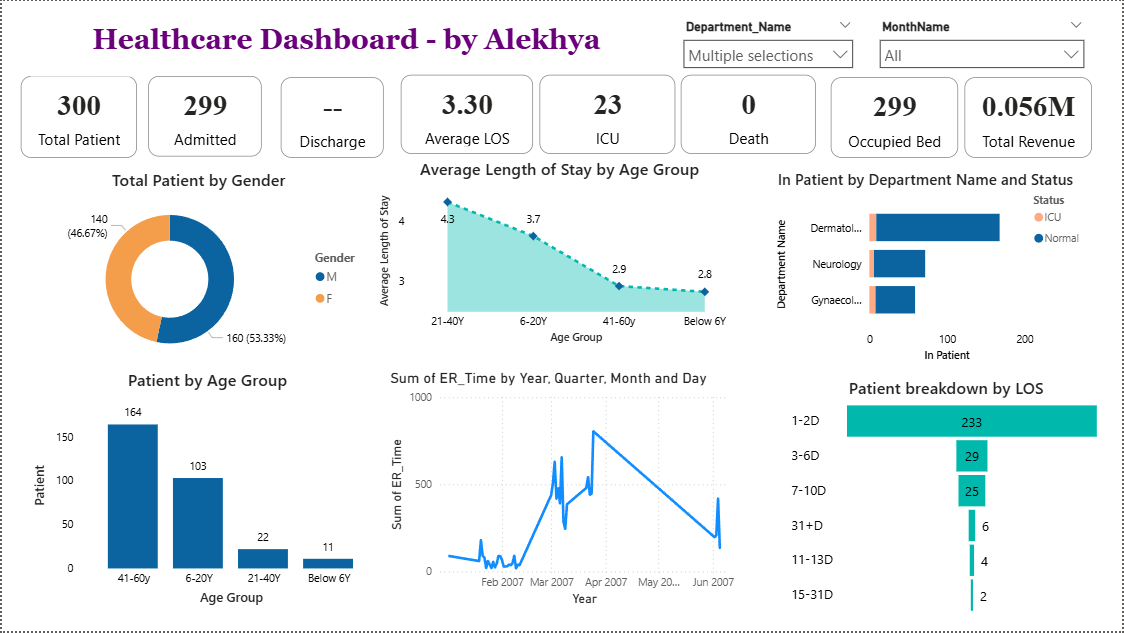

This screenshot's page, from the dashboard's own definition file:
{"tool":"powerbi","page":{"name":"Patients Summary ","canvas":[1280,720],"ordinal":1},"visuals":[{"type":"cardVisual","fields":{"Data":["Measure.Total Patient"]},"box":[21.2,86.2,132.5,93.8],"z":0},{"type":"textbox","box":[32.5,20,721.2,66.2],"z":1000},{"type":"slicer","fields":{"Values":["Department.Department_Name"]},"box":[769.2,15.1,213.9,71.3],"z":2000},{"type":"slicer","fields":{"Values":["Calendar_date.MonthName"]},"box":[992.6,15.1,253.6,71.3],"z":3000},{"type":"cardVisual","fields":{"Data":["Measure.In Patient"]},"box":[167.5,85.6,129.6,91.7],"z":4000},{"type":"cardVisual","fields":{"Data":["Measure.Total Discharge"]},"box":[319,86.8,117.4,91.7],"z":5000},{"type":"cardVisual","fields":{"Data":["Measure.Avarage LOS"]},"box":[456,84.3,151.6,90.5],"z":6000},{"type":"cardVisual","fields":{"Data":["Measure.ICU"]},"box":[613.7,84.3,155.2,90.5],"z":7000},{"type":"cardVisual","fields":{"Data":["Measure.Death"]},"box":[775,84.3,154,90.5],"z":8000},{"type":"cardVisual","fields":{"Data":["Measure.Occupied Bed"]},"box":[947.4,86.8,145.5,91.7],"z":9000},{"type":"cardVisual","fields":{"Data":["Measure.Total Revenue"]},"box":[1100.2,86.8,145.5,91.7],"z":10000},{"type":"donutChart","fields":{"Category":["Detail data dataset.Gender"],"Y":["Measure.Total Patient"]},"box":[20.8,191.9,407.1,228.6],"z":11000},{"type":"columnChart","fields":{"Y":["Measure.Total Patient"],"Category":["Detail data dataset.Age Bucket"]},"box":[31.4,420,407.1,275.7],"z":12000},{"type":"areaChart","fields":{"Y":["Measure.Avarage LOS"],"Category":["Detail data dataset.Age Bucket"]},"box":[427.8,178.5,420.5,218.8],"z":13000},{"type":"barChart","fields":{"Category":["Department.Department_Name"],"Y":["Measure.In Patient"],"Series":["Detail data dataset.Status"]},"box":[881.4,191.9,364.3,226.1],"z":14000},{"type":"funnel","title":"Patient breakdown by LOS","fields":{"Y":["Measure.Total Patient"],"Category":["Detail data dataset.Custom"]},"box":[897.2,429.1,364.3,277.5],"z":15000},{"type":"lineChart","fields":{"Category":["Detail data dataset.Date.Variation.Date Hierarchy.Year","Detail data dataset.Date.Variation.Date Hierarchy.Quarter","Detail data dataset.Date.Variation.Date Hierarchy.Month","Detail data dataset.Date.Variation.Date Hierarchy.Day"],"Y":["Sum(Detail data dataset.ER_Time)"]},"box":[438,420,411,276],"z":15001}]}

Visuals, with their boxes in screenshot pixels (x1, y1, x2, y2), scaled from the page's 1280x720 canvas onto the 1124x633 screenshot:
cardVisual - Measure.Total Patient: locate(19, 76, 135, 158)
textbox: locate(29, 18, 662, 76)
slicer - Department.Department_Name: locate(675, 13, 863, 76)
slicer - Calendar_date.MonthName: locate(872, 13, 1094, 76)
cardVisual - Measure.In Patient: locate(147, 75, 261, 156)
cardVisual - Measure.Total Discharge: locate(280, 76, 383, 157)
cardVisual - Measure.Avarage LOS: locate(400, 74, 534, 154)
cardVisual - Measure.ICU: locate(539, 74, 675, 154)
cardVisual - Measure.Death: locate(681, 74, 816, 154)
cardVisual - Measure.Occupied Bed: locate(832, 76, 960, 157)
cardVisual - Measure.Total Revenue: locate(966, 76, 1094, 157)
donutChart - Detail data dataset.Gender x Measure.Total Patient: locate(18, 169, 376, 370)
columnChart - Measure.Total Patient x Detail data dataset.Age Bucket: locate(28, 369, 385, 612)
areaChart - Measure.Avarage LOS x Detail data dataset.Age Bucket: locate(376, 157, 745, 349)
barChart - Department.Department_Name x Measure.In Patient: locate(774, 169, 1094, 367)
"Patient breakdown by LOS" funnel: locate(788, 377, 1108, 621)
lineChart - Detail data dataset.Date.Variation.Date Hierarchy.Year x Detail data dataset.Date.Variation.Date Hierarchy.Quarter: locate(385, 369, 746, 612)
